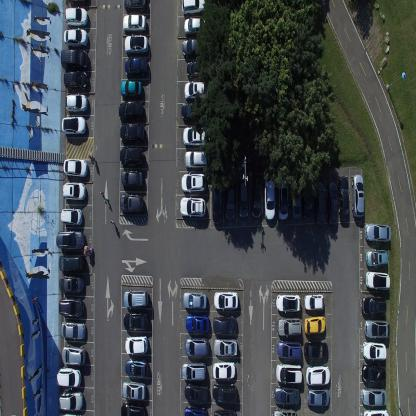car: (60, 47, 89, 70), (56, 229, 84, 251), (336, 177, 349, 223), (180, 195, 206, 218), (363, 318, 389, 340), (180, 170, 206, 192), (55, 367, 81, 389), (274, 384, 301, 405), (364, 222, 391, 243), (276, 173, 288, 220), (211, 177, 223, 224), (352, 172, 364, 219), (263, 175, 275, 221), (184, 382, 209, 404), (364, 270, 389, 292), (184, 312, 209, 334), (182, 37, 207, 59), (118, 100, 143, 122), (182, 126, 208, 147), (306, 364, 330, 386), (361, 362, 385, 384), (300, 178, 312, 222), (250, 174, 262, 218), (224, 176, 236, 220), (61, 344, 85, 366), (124, 56, 148, 78), (120, 122, 144, 144), (64, 92, 88, 114), (212, 382, 237, 403), (212, 314, 237, 335), (58, 392, 83, 413), (124, 357, 149, 378), (180, 100, 205, 121), (119, 193, 144, 214), (63, 70, 88, 91), (276, 362, 302, 382), (58, 252, 84, 272), (58, 297, 84, 317), (123, 288, 149, 308), (123, 311, 149, 331), (325, 182, 337, 225), (64, 5, 87, 27), (184, 336, 208, 357), (182, 360, 206, 381), (124, 34, 148, 55), (119, 145, 143, 166), (62, 115, 86, 136), (277, 314, 302, 334), (276, 292, 301, 312), (361, 296, 386, 316), (184, 150, 209, 170), (213, 290, 238, 310), (63, 27, 88, 47), (360, 387, 386, 406), (58, 275, 84, 294), (60, 321, 86, 340), (278, 338, 302, 358), (121, 380, 145, 400), (62, 180, 86, 200), (122, 12, 146, 32), (63, 158, 88, 177), (125, 334, 148, 354), (362, 342, 386, 361), (212, 361, 236, 380), (213, 337, 237, 356), (182, 291, 206, 310), (314, 182, 324, 227), (304, 314, 326, 334), (184, 80, 206, 100), (186, 59, 208, 79), (120, 79, 142, 99), (121, 169, 143, 189), (365, 248, 388, 267), (60, 207, 83, 226), (183, 16, 206, 35), (304, 341, 328, 359), (307, 388, 330, 406), (290, 177, 300, 218), (238, 178, 248, 218), (304, 292, 325, 311), (120, 401, 146, 415), (181, 0, 205, 15), (184, 404, 208, 415), (124, 0, 148, 11), (272, 408, 297, 416), (212, 408, 239, 415), (363, 408, 388, 415)
